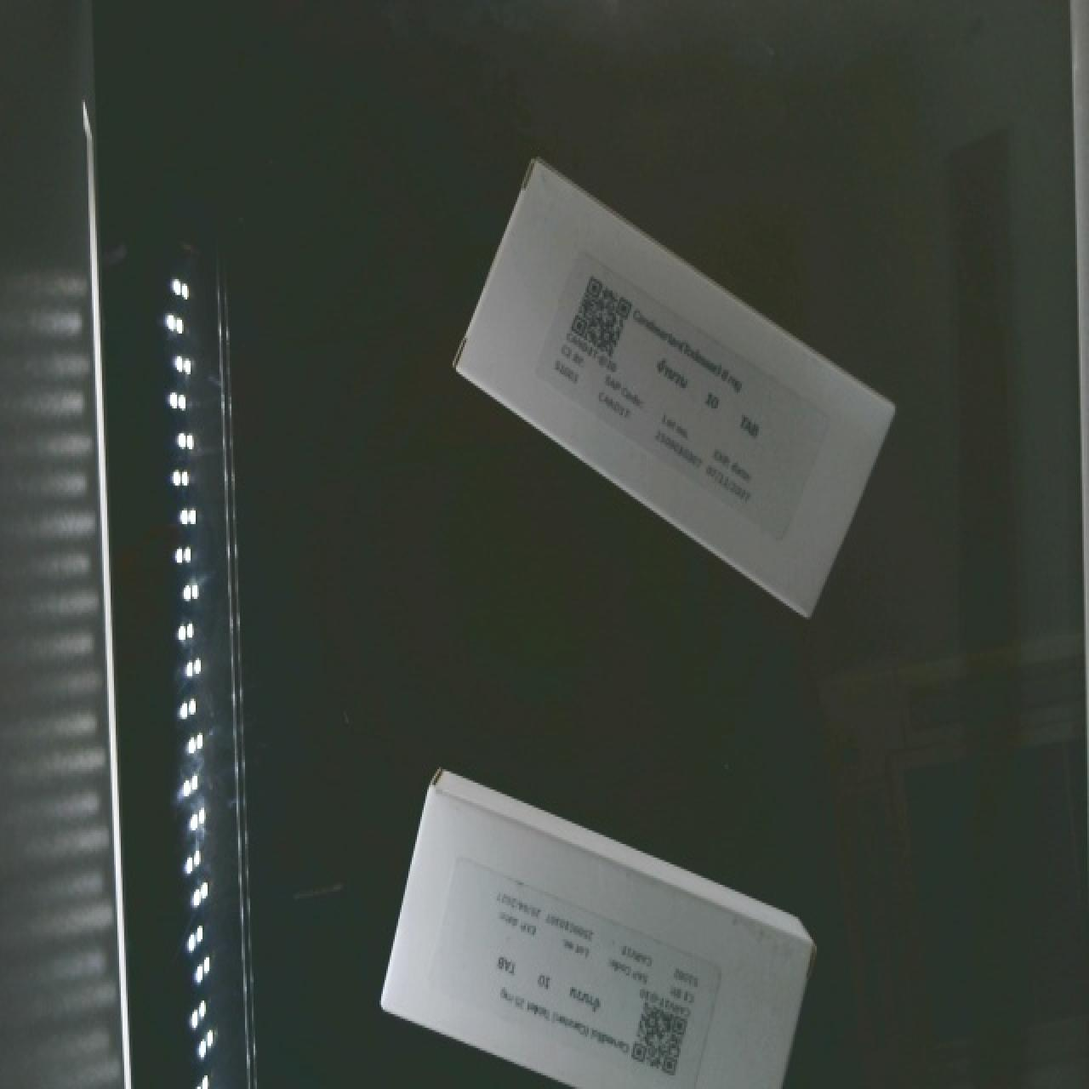qr_code: (544, 253, 655, 382), (604, 973, 714, 1089)
